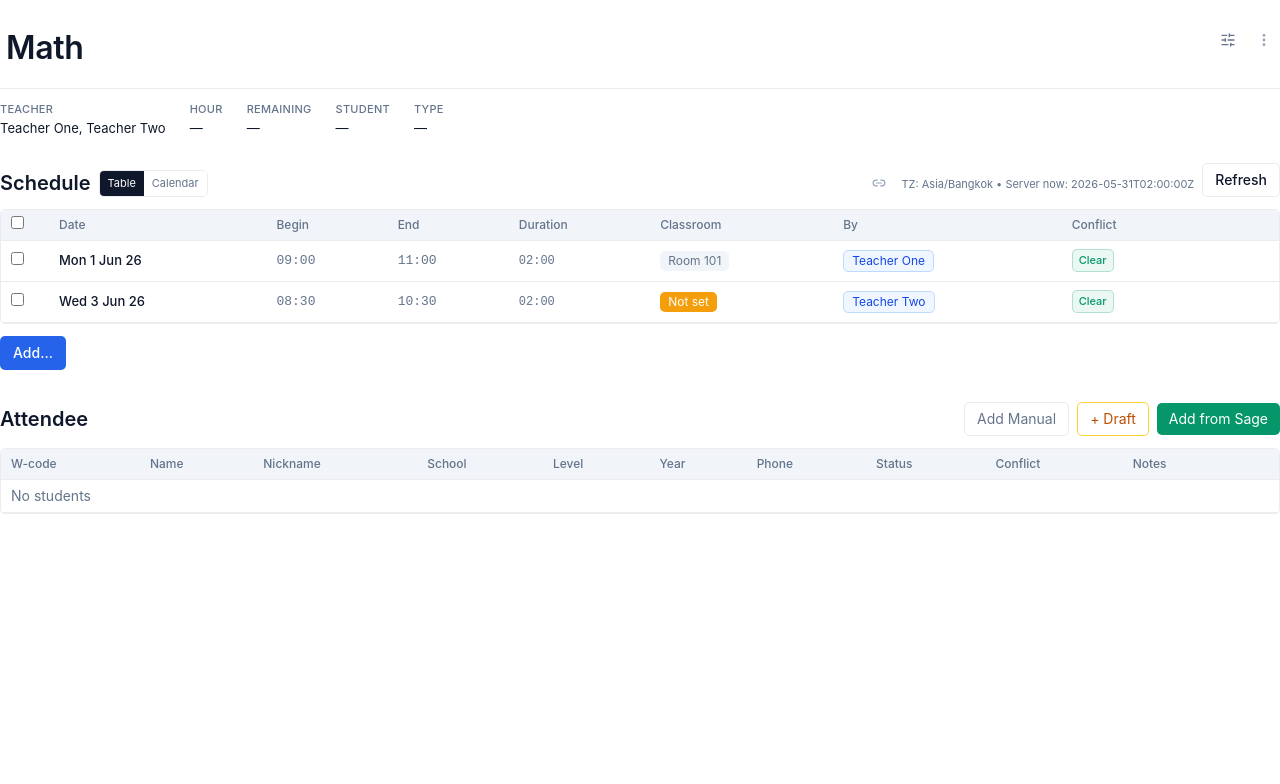
Test case: CourseDetail session editing › runs the availability check and saves with the session version
The width and height of the screenshot is (1280, 784).
Click the button with aria-label "Edit session Mon 1 Jun 26".
click(100, 260)  # box [59,248,142,272]
(page scrolled)
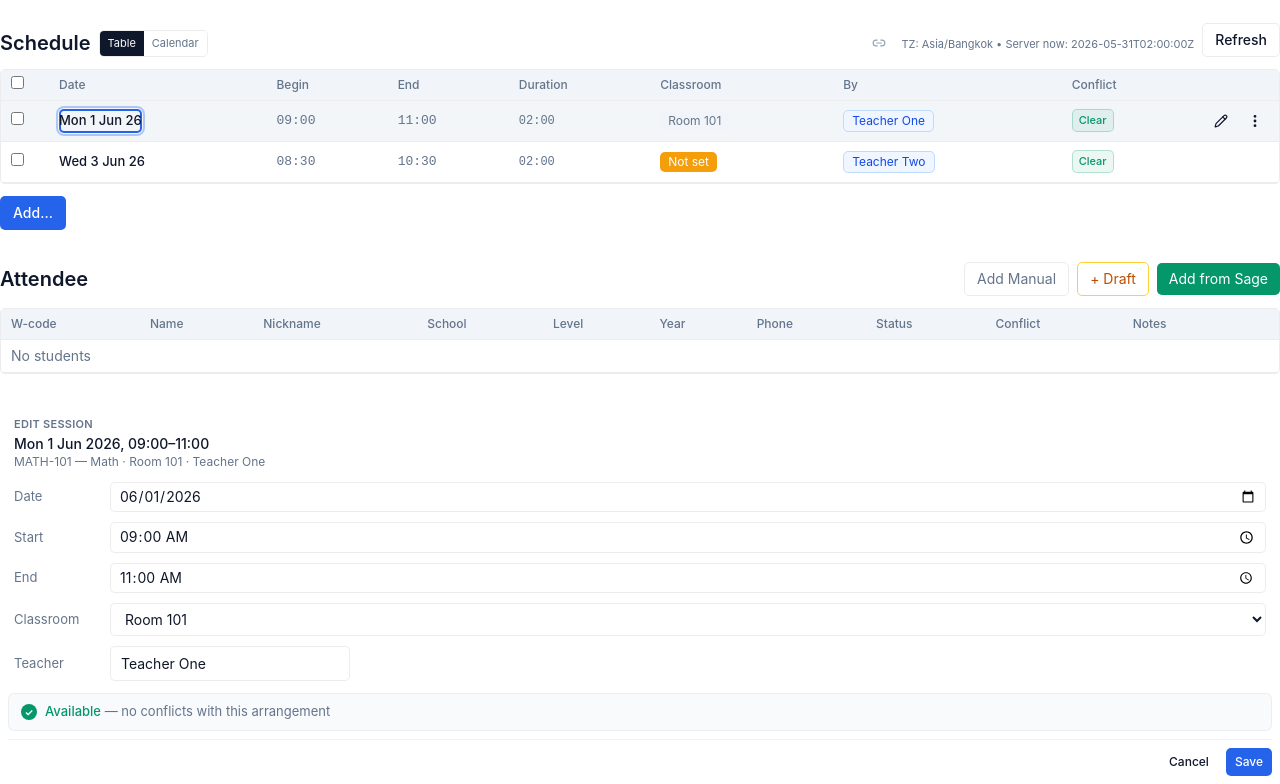
expect the button "Save" is enabled: met
Click the button "Save".
click(1249, 762)  # box [1226,748,1272,776]
(page scrolled)
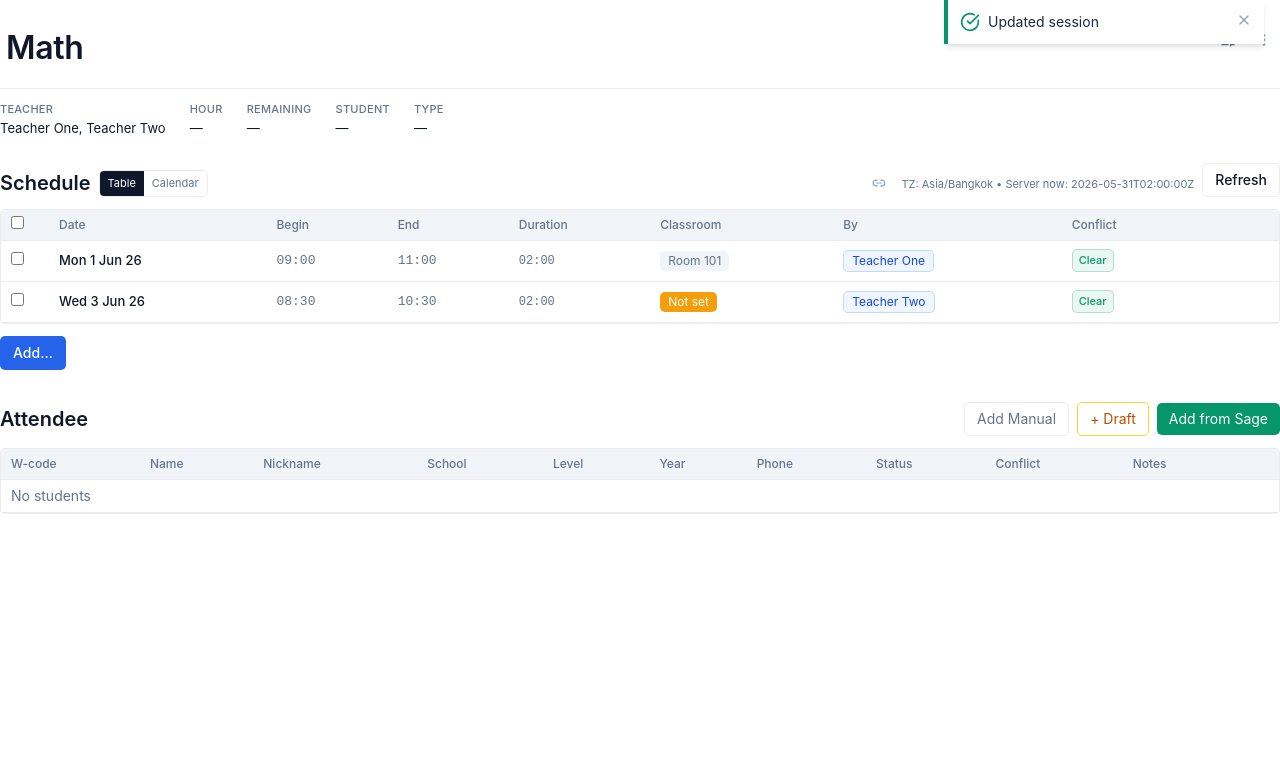
expect the text "Updated session" is shown: met, box [988,13,1099,30]
